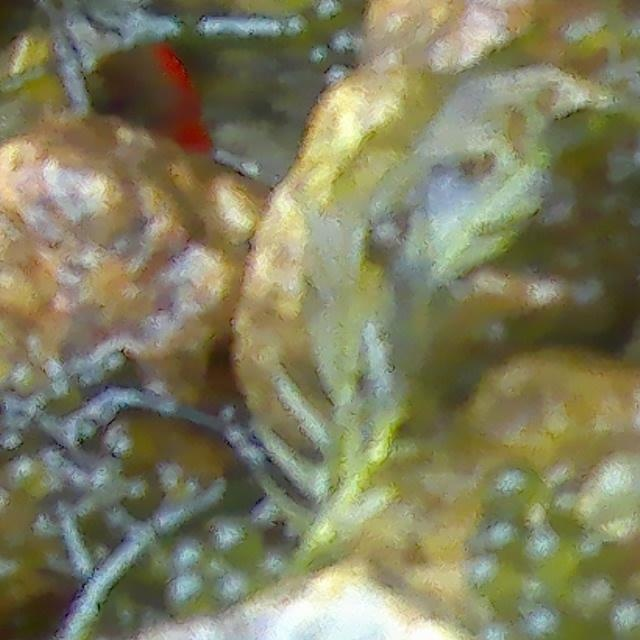SeaGrape: (569, 458, 640, 537), (488, 469, 539, 522), (527, 530, 573, 580), (472, 555, 517, 600), (518, 605, 573, 640), (482, 517, 531, 554)
